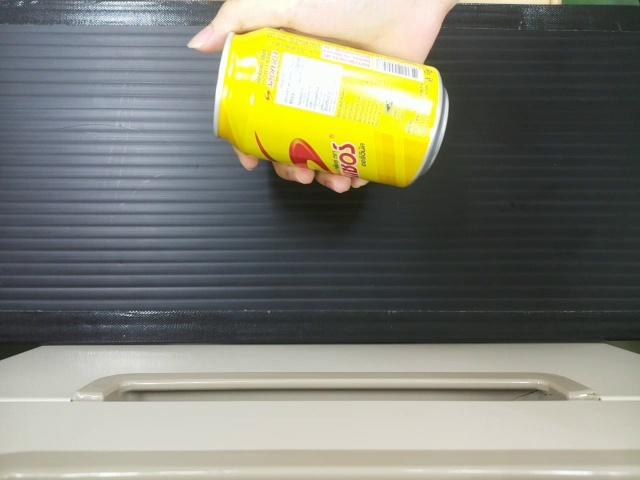can: (209, 28, 445, 183)
